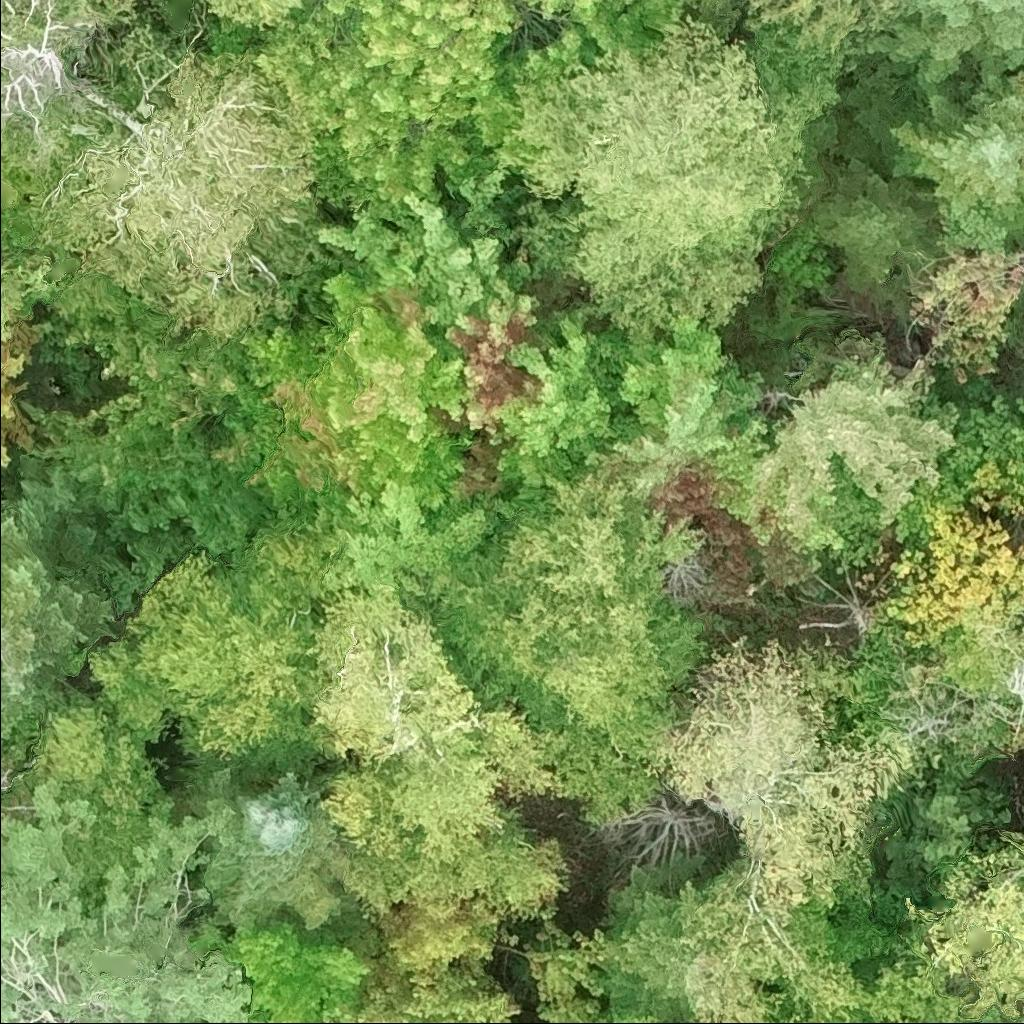crown: (508, 16, 841, 336), (422, 462, 713, 823), (213, 0, 692, 208), (23, 23, 324, 347), (311, 573, 571, 871), (652, 634, 922, 914), (205, 258, 476, 514), (92, 516, 346, 771), (0, 770, 253, 1023), (737, 348, 963, 566), (442, 282, 634, 494), (317, 167, 565, 328), (576, 327, 765, 527), (0, 479, 128, 748), (685, 855, 879, 1023), (31, 684, 171, 906), (0, 0, 140, 217), (200, 761, 356, 927), (191, 887, 379, 1023), (338, 831, 563, 937), (894, 84, 1023, 251), (891, 396, 1023, 549), (821, 151, 947, 308), (906, 854, 1023, 1023), (595, 853, 711, 1023), (325, 937, 526, 1023), (911, 246, 1019, 383), (871, 0, 1023, 86), (379, 899, 504, 987), (596, 784, 725, 863), (523, 922, 618, 1023), (873, 945, 986, 1023), (742, 0, 884, 52), (0, 262, 59, 338), (203, 0, 298, 28), (683, 0, 746, 33), (777, 1007, 882, 1023), (609, 1004, 663, 1023)
